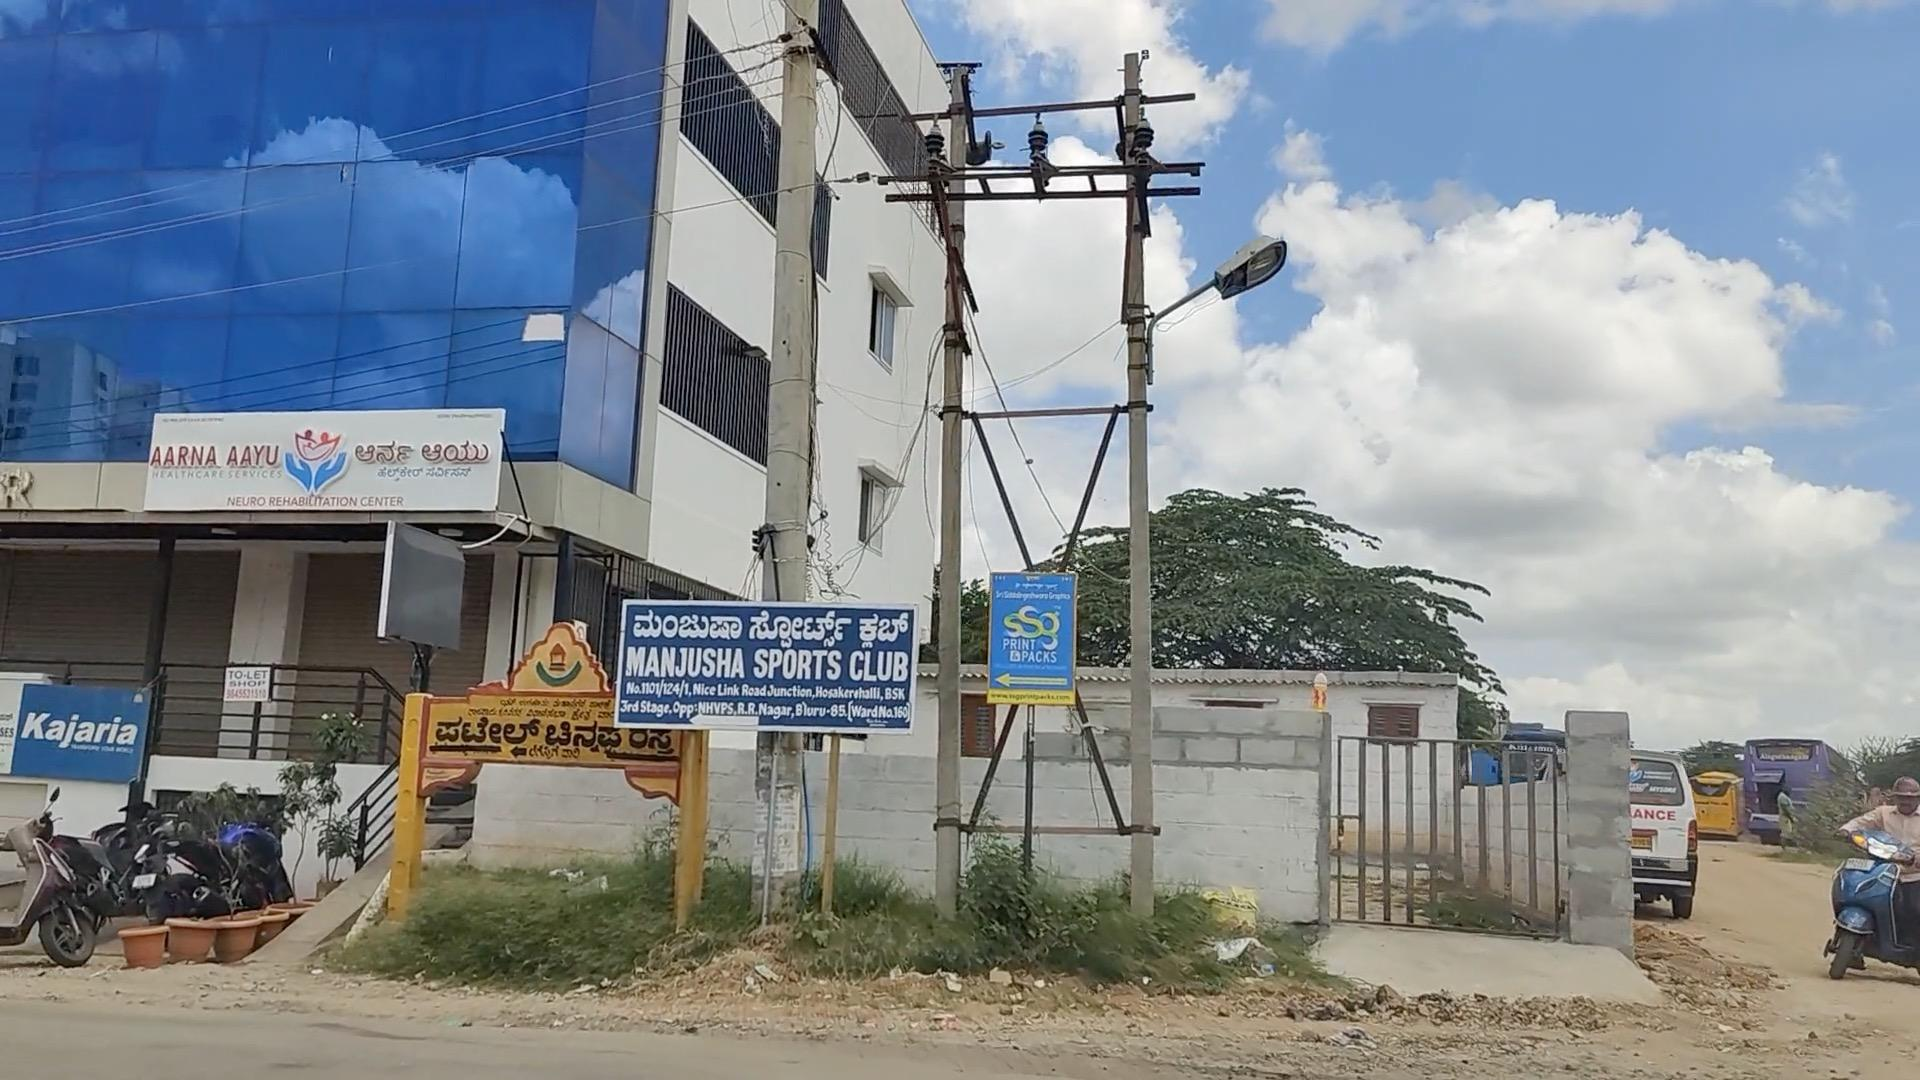LMV: (1845, 773, 1920, 977), (1630, 757, 1702, 887)
